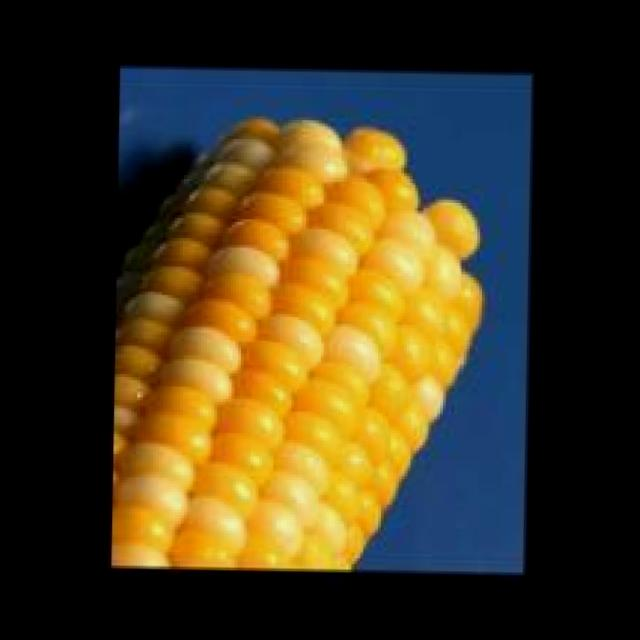corn: (107, 117, 483, 572)
